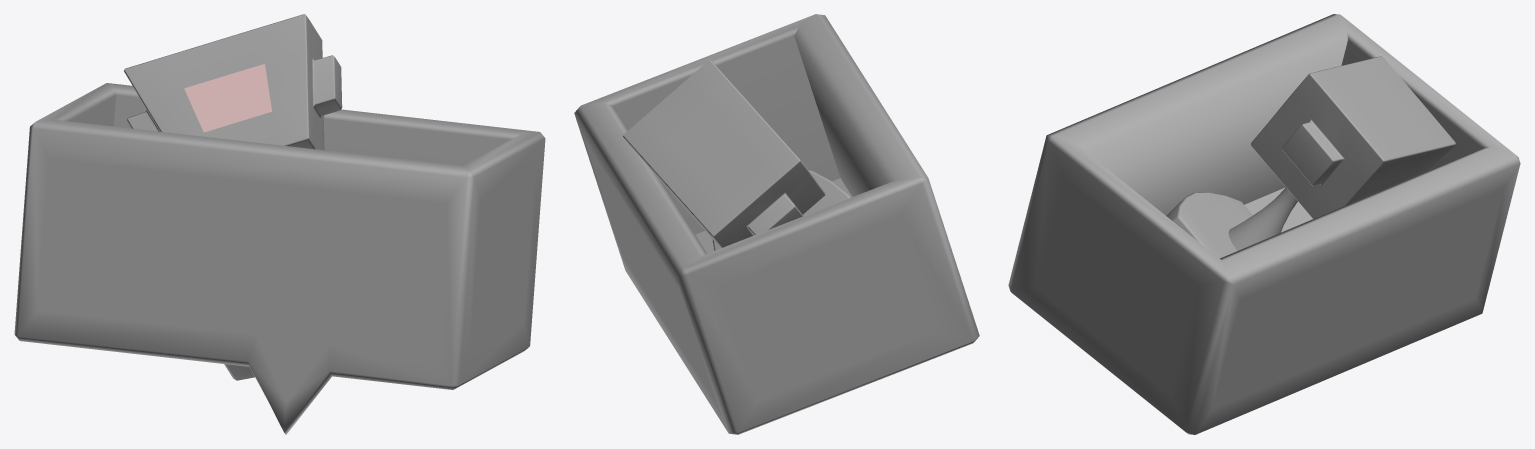
File: Chess_10001.fbx
The picture shows the model from 3 angles, left to right: view 1: azimuth 30°, elevation 25°; view 2: azimuth 150°, elevation 25°; view 3: azimuth 270°, elevation 25°; orthographic projection. The views are drawn at different scales.
Visible parts, largest first — view 1: Chess_31_1, Chess_31_2_1, Chess_31_2_2; view 2: Chess_31_1, Chess_31_2_1; view 3: Chess_31_1, Chess_31_2_1.
Part boxes in pixels (box(x1,y1,x2,y2)): Chess_31_1: box(14, 83, 545, 434); Chess_31_2_1: box(124, 14, 342, 380); Chess_31_2_2: box(184, 64, 271, 132); Chess_31_1: box(574, 14, 979, 434); Chess_31_2_1: box(623, 60, 850, 250); Chess_31_1: box(1008, 14, 1520, 434); Chess_31_2_1: box(1166, 56, 1455, 258).
Bounding box in the file's own units: 4.27 × 2.71 × 4.27.
